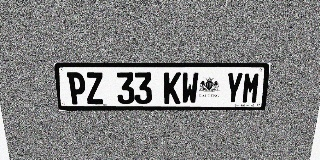3: (116, 72, 134, 104), (134, 72, 152, 104)
K: (164, 72, 181, 104)
M: (241, 72, 261, 104)
P: (67, 72, 87, 104)
W: (181, 72, 199, 104)
Y: (224, 72, 244, 104)
Z: (85, 72, 104, 104)
